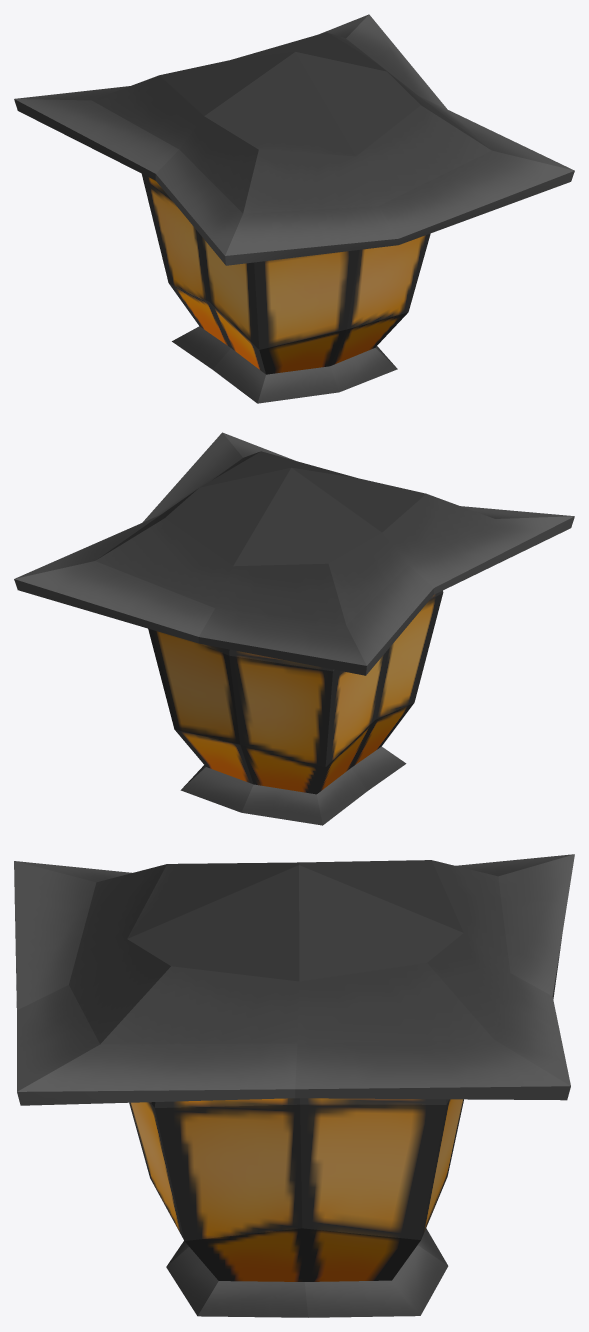
The model's file is Lantern Big.fbx.
3 renders of one model, top to bottom at view 1: azimuth 30°, elevation 25°; view 2: azimuth 150°, elevation 25°; view 3: azimuth 270°, elevation 25°, orthographic. The views are drawn at different scales.
Parts seen in each view (by area): view 1: Cube.001; view 2: Cube.001; view 3: Cube.001.
Boxes of the visible parts, box(x1,y1,x2,y2) form: Cube.001: box(14, 14, 574, 403); Cube.001: box(14, 432, 574, 825); Cube.001: box(14, 854, 574, 1317).
Bounding box in the file's own units: 352 × 306 × 361.
Materials: 1 (1 with a texture image).
